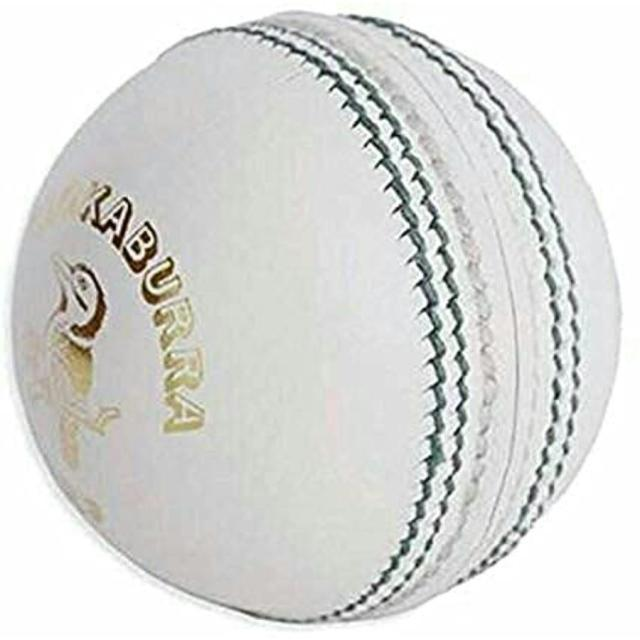cricket ball: (9, 10, 622, 625)
